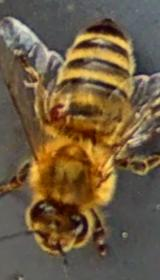varroa_mite: (39, 94, 72, 128)
